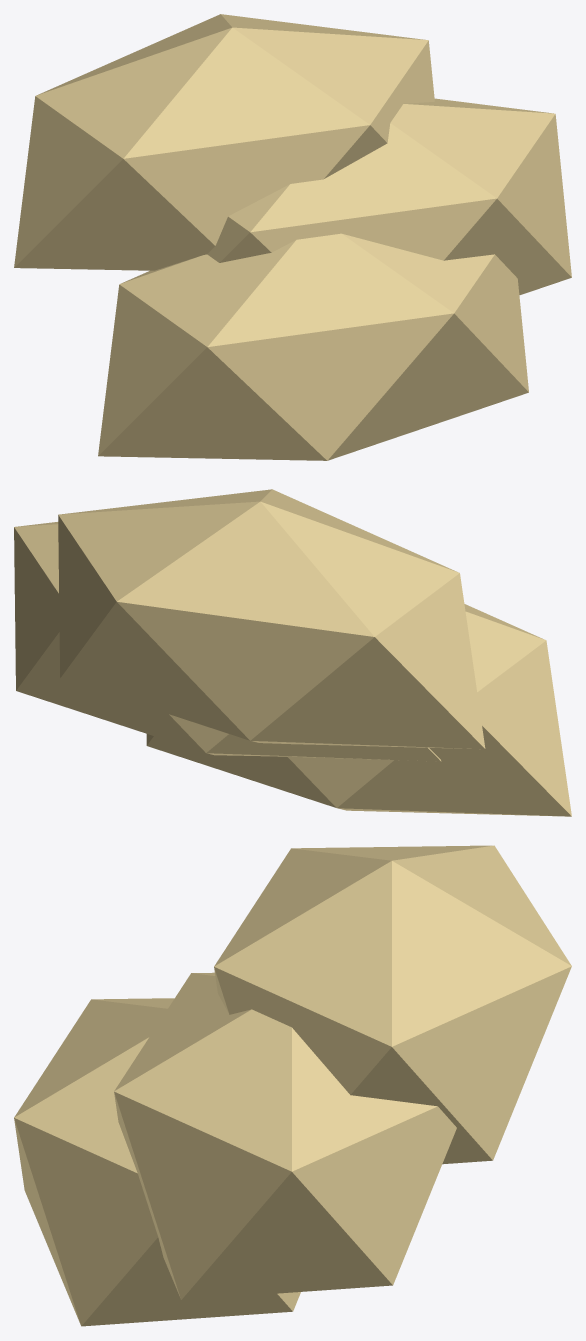
The model's file is item_019_wild_grain_m.glb.
3 renders of one model, top to bottom at view 1: azimuth 30°, elevation 25°; view 2: azimuth 150°, elevation 25°; view 3: azimuth 270°, elevation 25°, orthographic. The views are drawn at different scales.
Visible parts, largest first — view 1: item_019_wild_grain_m; view 2: item_019_wild_grain_m; view 3: item_019_wild_grain_m.
Part boxes in pixels (box(x1,y1,x2,y2)): item_019_wild_grain_m: box(14, 14, 571, 460); item_019_wild_grain_m: box(14, 489, 571, 816); item_019_wild_grain_m: box(14, 845, 571, 1326).
Size of the model in its own units: 0.4122 by 0.285 by 0.3348.
